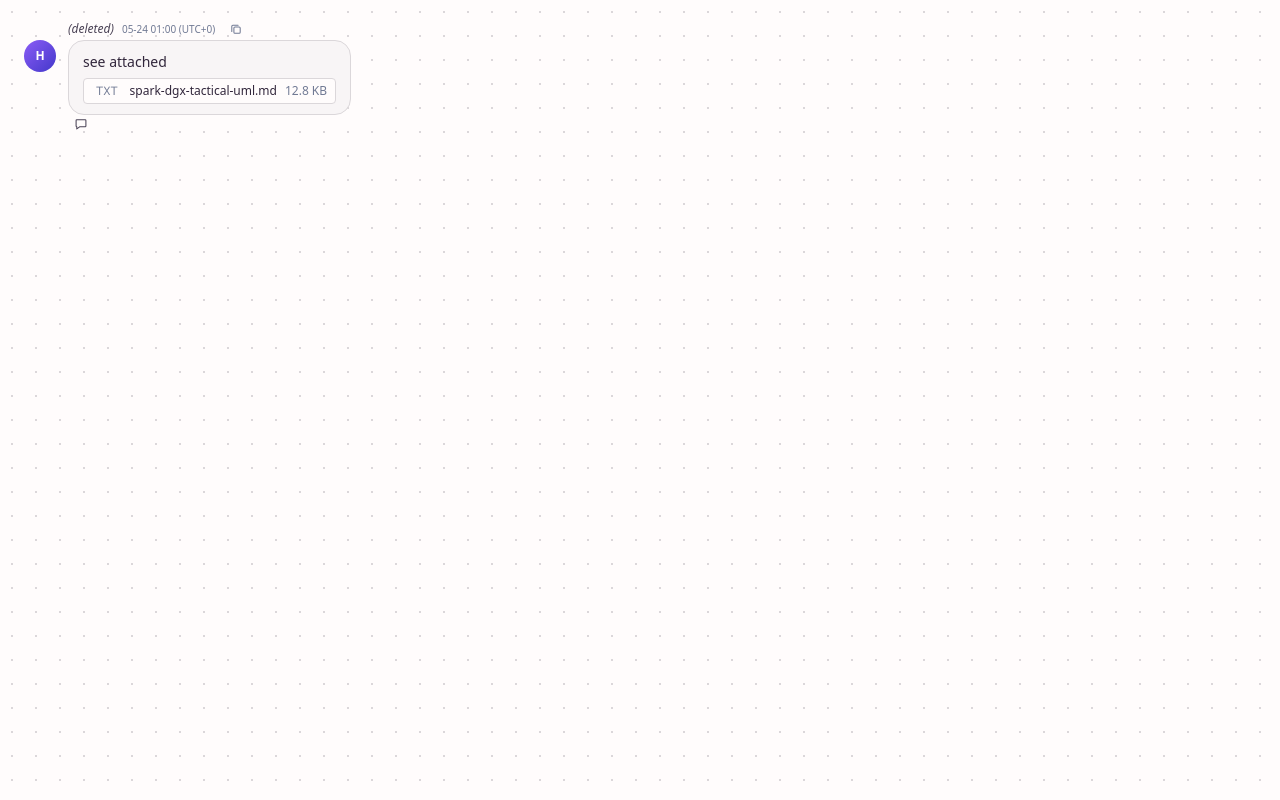
Test case: MessageList attachments (#142) › renders markdown attachments through MarkdownMessage so Mermaid fences become diagrams
What coordinates should you click on to do the following:
click the link with test id "attachment-link"
I would click on:
 (184, 91)
Its box is [92,83,277,99].
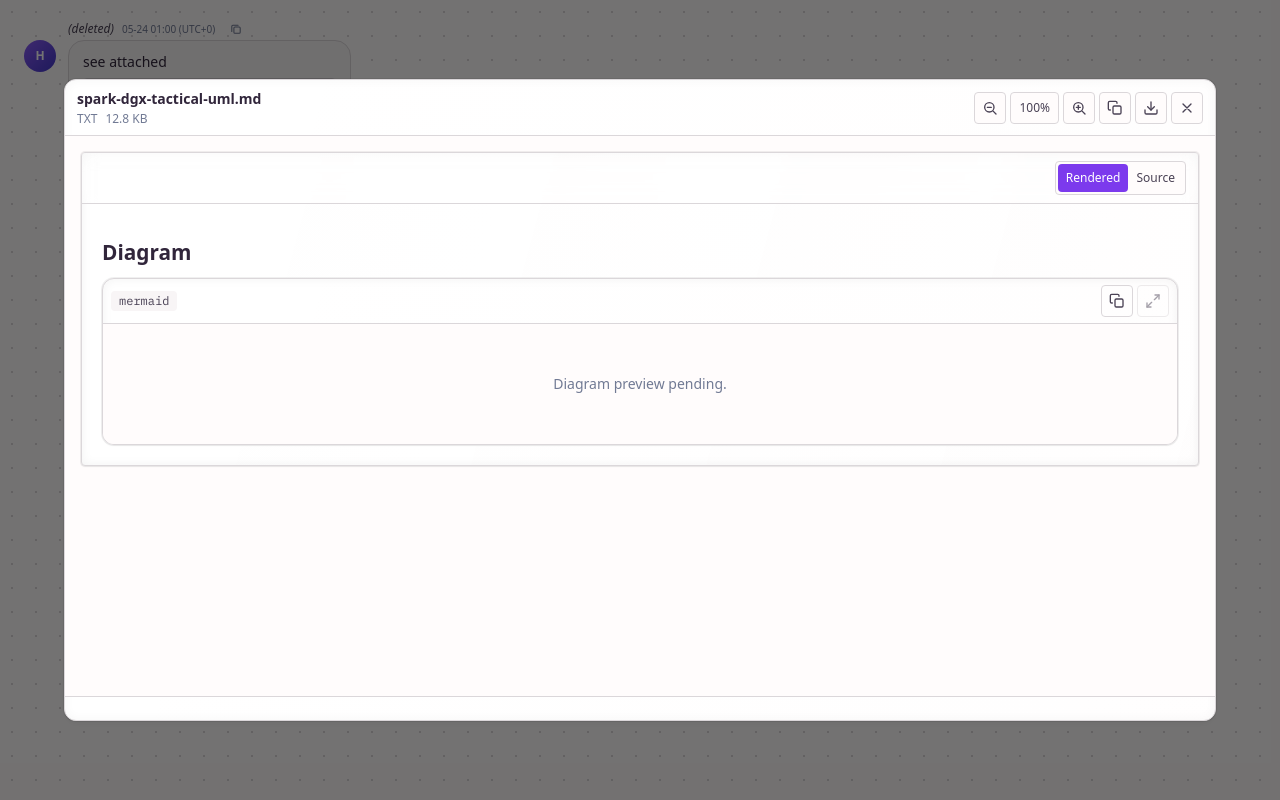
Now the heading "Diagram" is shown, box [102,238,192,266]
Now the element with test id "attachment-viewer-markdown" is shown, box [81,152,1199,466]
Now the element with test id "mermaid-diagram" is shown, box [102,278,1178,445]
What coordinates should you click on to do the following:
click the button with test id "attachment-viewer-markdown-source"
I would click on:
 (1156, 178)
Its box is [1128,164,1183,192].
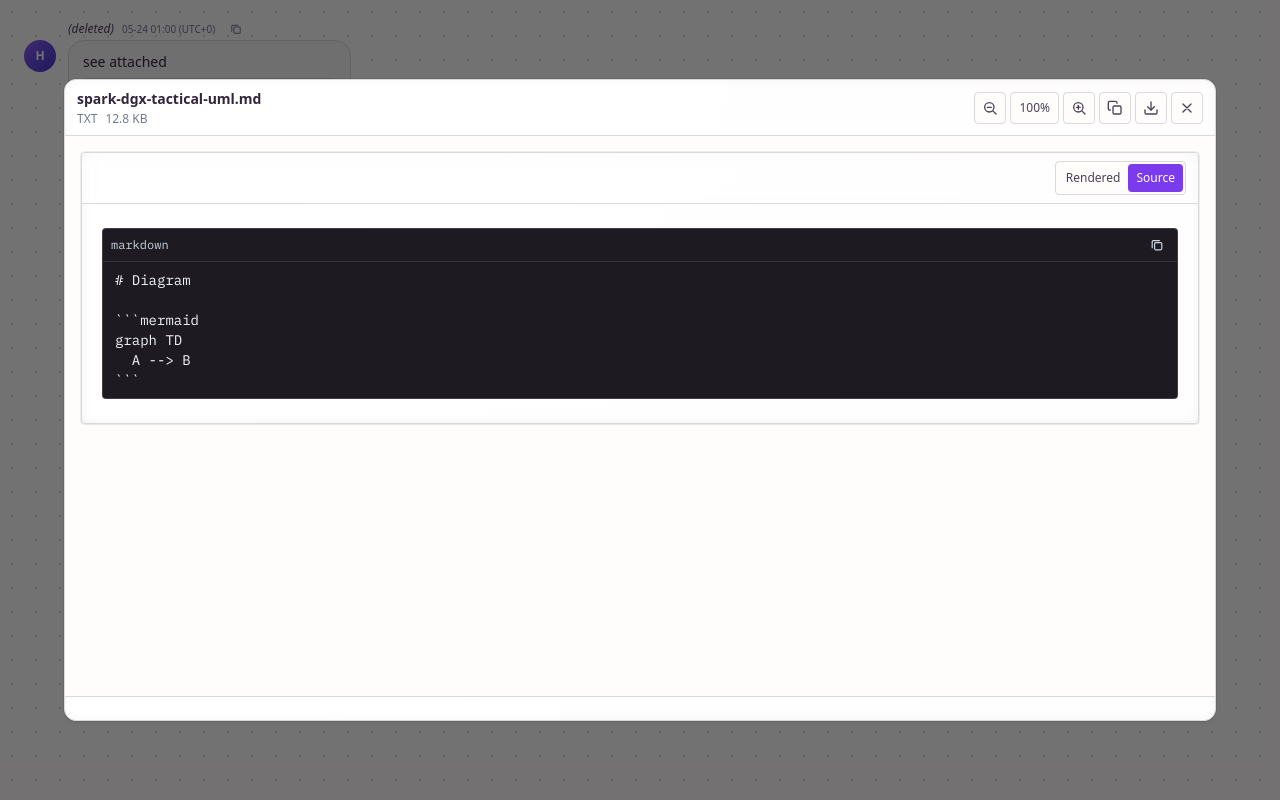
Now the element with test id "collapsible-code-block" shows "graph TD", box [115,271,199,389]
